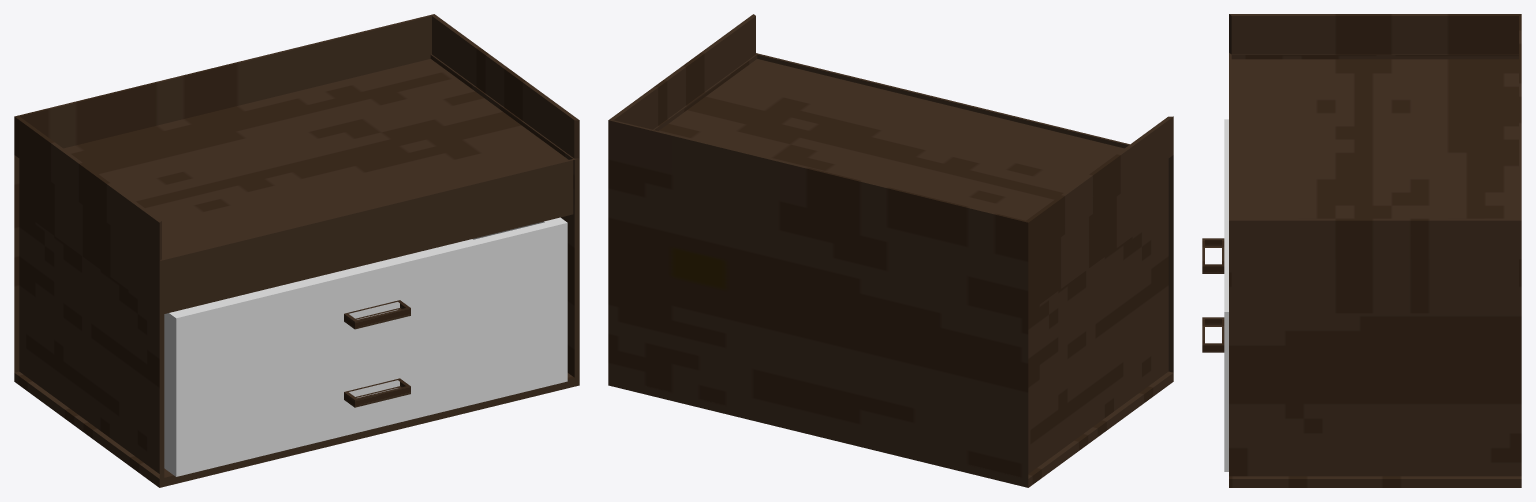
Rendered from table-chevet1.glb.
3 views of the same model, side by side, from view 1: azimuth 30°, elevation 25°; view 2: azimuth 150°, elevation 25°; view 3: azimuth 270°, elevation 25° (orthographic).
Visible parts, largest first — view 1: table-chevet, tiroir, tiroir.001; view 2: table-chevet; view 3: table-chevet, tiroir, tiroir.001.
Boxes of the visible parts, x1,y1,x2,y2 form: table-chevet: (14, 14, 579, 487); tiroir: (164, 217, 567, 398); tiroir.001: (164, 301, 567, 476); table-chevet: (608, 14, 1173, 487); table-chevet: (1229, 14, 1521, 487); tiroir: (1202, 119, 1228, 392); tiroir.001: (1202, 317, 1228, 471).
Bounding box in the file's own units: 8.97 × 5.41 × 5.86.
2 materials, 1 textured.
